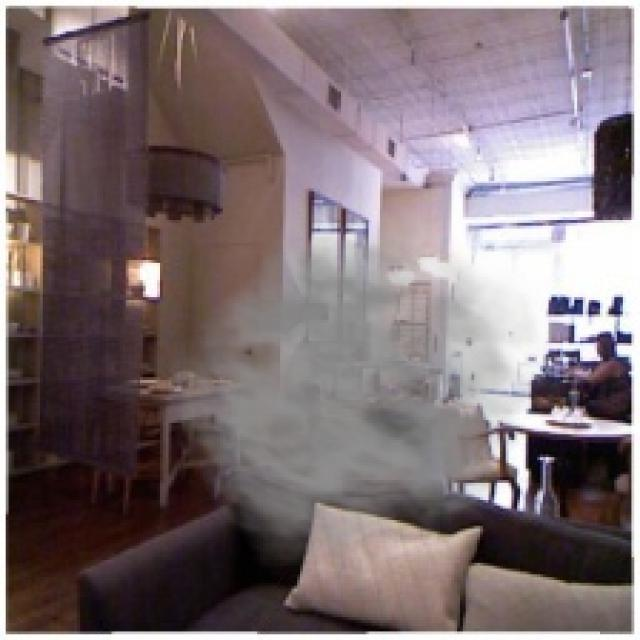Smoke: (165, 200, 560, 566)
